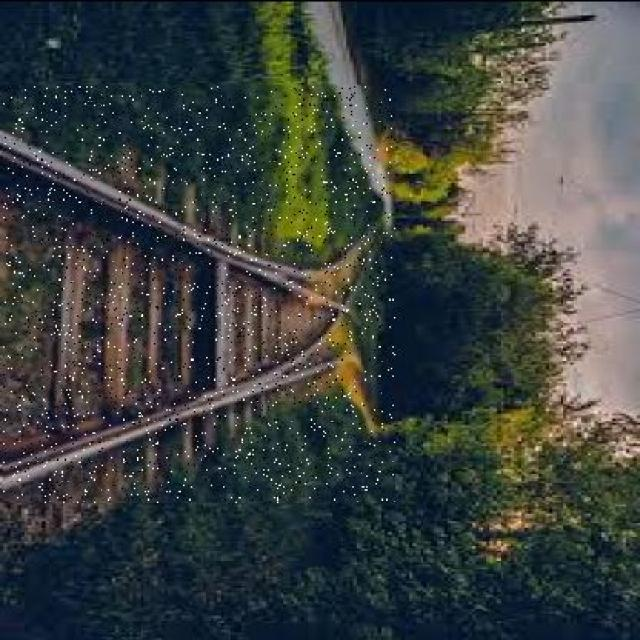rail: (4, 86, 396, 502)
